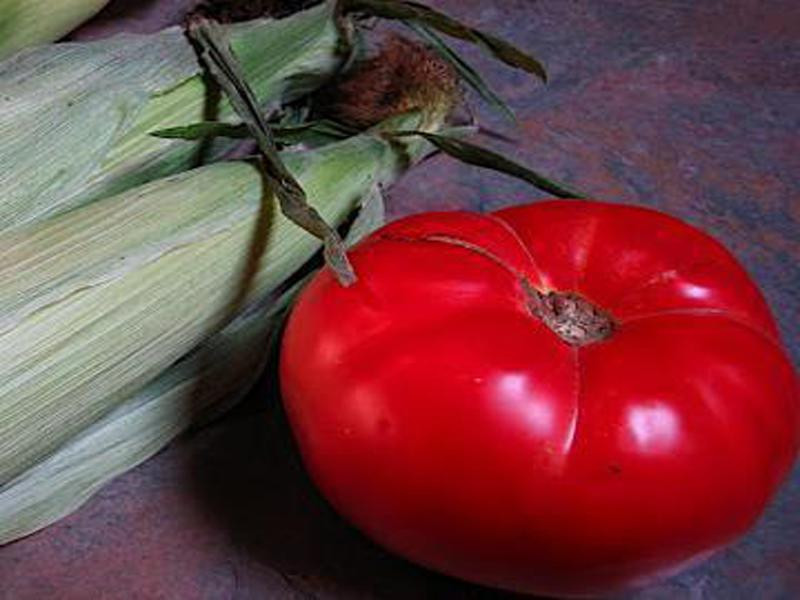Tomato: (281, 199, 795, 594)
